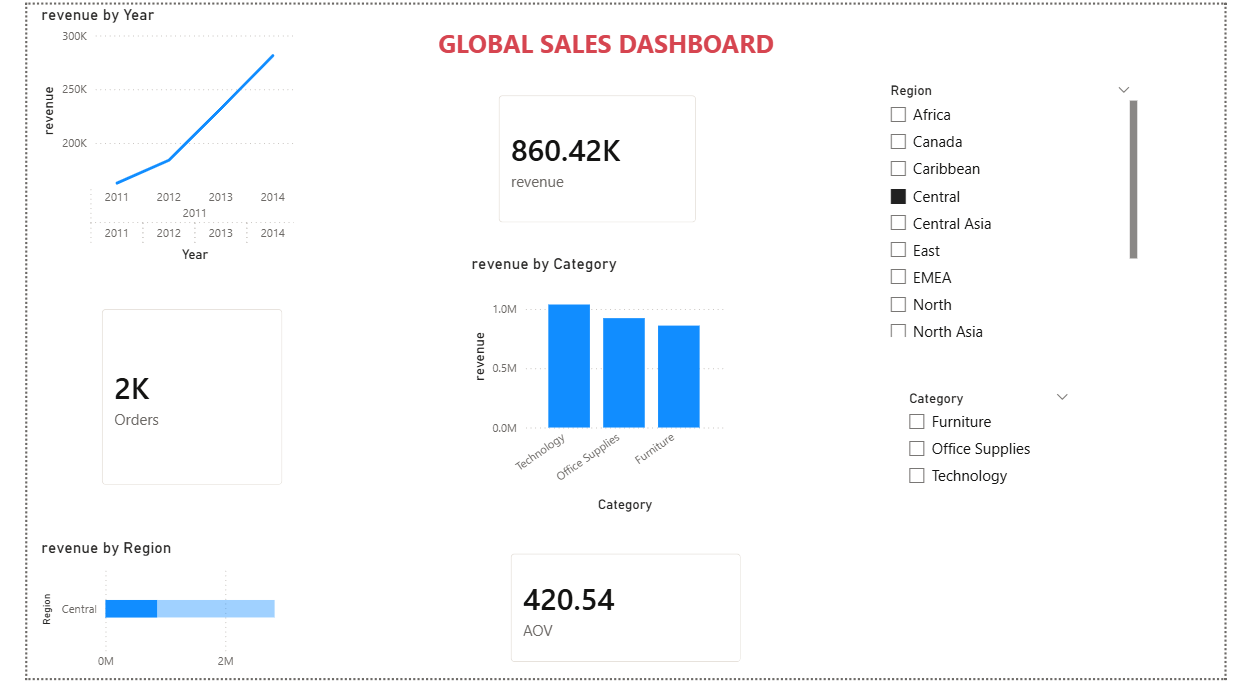

Layout of this report page (visuals, bound fields, positions):
{"tool":"powerbi","page":{"name":"Page 1","canvas":[1280,720],"ordinal":0},"visuals":[{"type":"lineChart","fields":{"Category":["Sheet1.Order Date.Variation.Date Hierarchy.Year","Sheet1.Order Date.Variation.Date Hierarchy.Quarter","Sheet1.Order Date.Variation.Date Hierarchy.Month","Sheet1.Order Date.Variation.Date Hierarchy.Day","Sheet1.Order Date.Variation.Date Hierarchy.Year","Sheet1.Order Date.Variation.Date Hierarchy.Quarter","Sheet1.Order Date.Variation.Date Hierarchy.Month","Sheet1.Order Date.Variation.Date Hierarchy.Day","Sheet1.Order Date.Variation.Date Hierarchy.Year","Sheet1.Order Date.Variation.Date Hierarchy.Quarter","Sheet1.Order Date.Variation.Date Hierarchy.Month","Sheet1.Order Date.Variation.Date Hierarchy.Day"],"Y":["Sheet1.revenue"]},"box":[10,0,280,280],"z":0},{"type":"clusteredColumnChart","fields":{"Category":["Sheet1.Category"],"Y":["Sheet1.revenue"]},"box":[470,267.1,280,280],"z":1},{"type":"clusteredBarChart","fields":{"Category":["Sheet1.Region"],"Y":["Sheet1.revenue"]},"box":[10,570,280,150],"z":2},{"type":"cardVisual","fields":{"Data":["Sheet1.revenue"]},"box":[487.1,80,245.7,170],"z":3},{"type":"cardVisual","fields":{"Data":["Sheet1.Orders"]},"box":[62.9,308.6,227.1,222.9],"z":4},{"type":"cardVisual","fields":{"Data":["Sheet1.AOV"]},"box":[500,570,280,150],"z":5},{"type":"slicer","fields":{"Values":["Sheet1.Region"]},"box":[910,78.6,281.4,281.4],"z":6},{"type":"slicer","fields":{"Values":["Sheet1.Category"]},"box":[930,407.1,195.7,210],"z":7},{"type":"textbox","box":[434.3,18.6,410,72.9],"z":8}]}

Visuals, with their boxes in screenshot pixels (x1, y1, x2, y2), scaled from the page's 1280x720 canvas onto the 1242x691 screenshot:
lineChart - Sheet1.Order Date.Variation.Date Hierarchy.Year x Sheet1.Order Date.Variation.Date Hierarchy.Quarter: detection(10, 0, 281, 269)
clusteredColumnChart - Sheet1.Category x Sheet1.revenue: detection(456, 256, 728, 525)
clusteredBarChart - Sheet1.Region x Sheet1.revenue: detection(10, 547, 281, 690)
cardVisual - Sheet1.revenue: detection(473, 77, 711, 240)
cardVisual - Sheet1.Orders: detection(61, 296, 281, 510)
cardVisual - Sheet1.AOV: detection(485, 547, 757, 690)
slicer - Sheet1.Region: detection(883, 75, 1156, 346)
slicer - Sheet1.Category: detection(902, 391, 1092, 592)
textbox: detection(421, 18, 819, 88)
